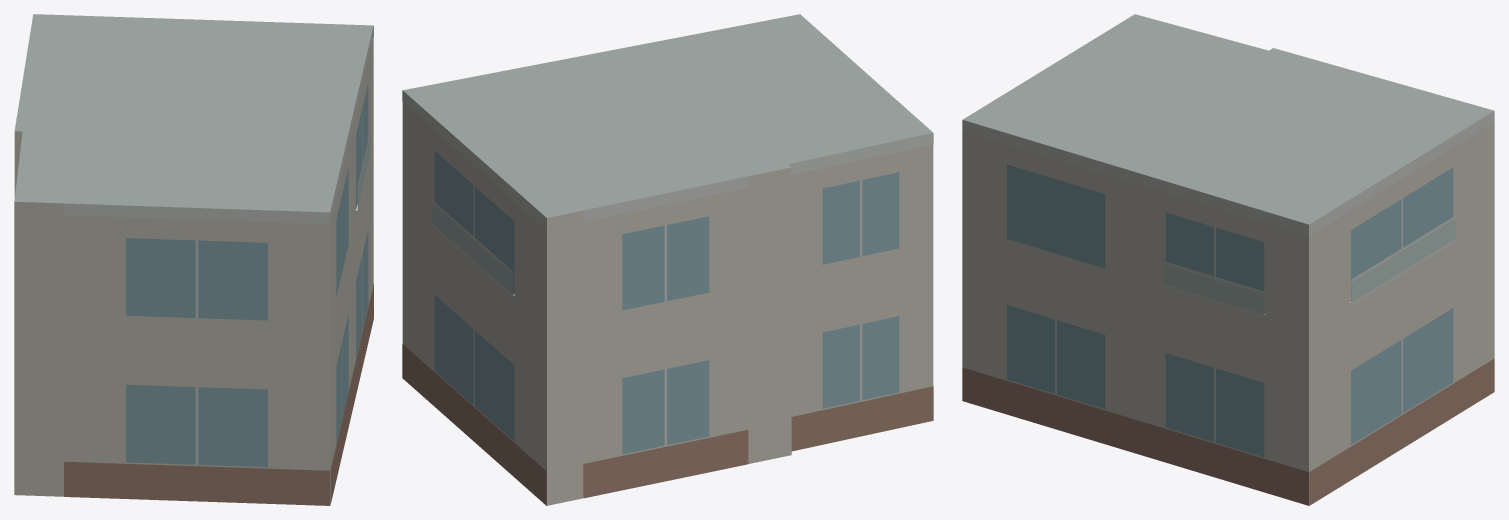
Rendered from survey-upis-32564180.glb.
The picture shows the model from 3 angles, left to right: view 1: azimuth 30°, elevation 25°; view 2: azimuth 150°, elevation 25°; view 3: azimuth 270°, elevation 25°; orthographic projection. The views are drawn at different scales.
Parts seen in each view (by area): view 1: survey-upis-32564180.tmp; view 2: survey-upis-32564180.tmp; view 3: survey-upis-32564180.tmp.
Boxes of the visible parts, box(x1,y1,x2,y2) form: survey-upis-32564180.tmp: box(14, 14, 373, 505); survey-upis-32564180.tmp: box(402, 14, 933, 505); survey-upis-32564180.tmp: box(962, 14, 1494, 505).
Size of the model in its own units: 9.81 by 6.1 by 10.47.
